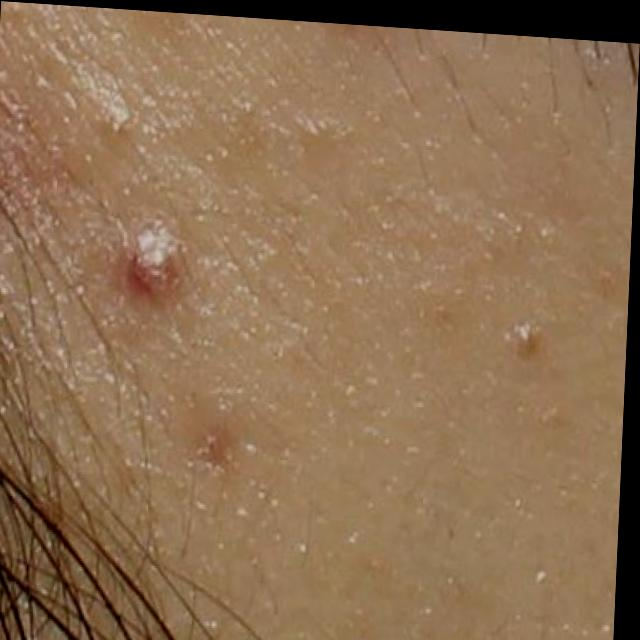blackheads: (113, 217, 187, 313), (503, 299, 558, 366)
